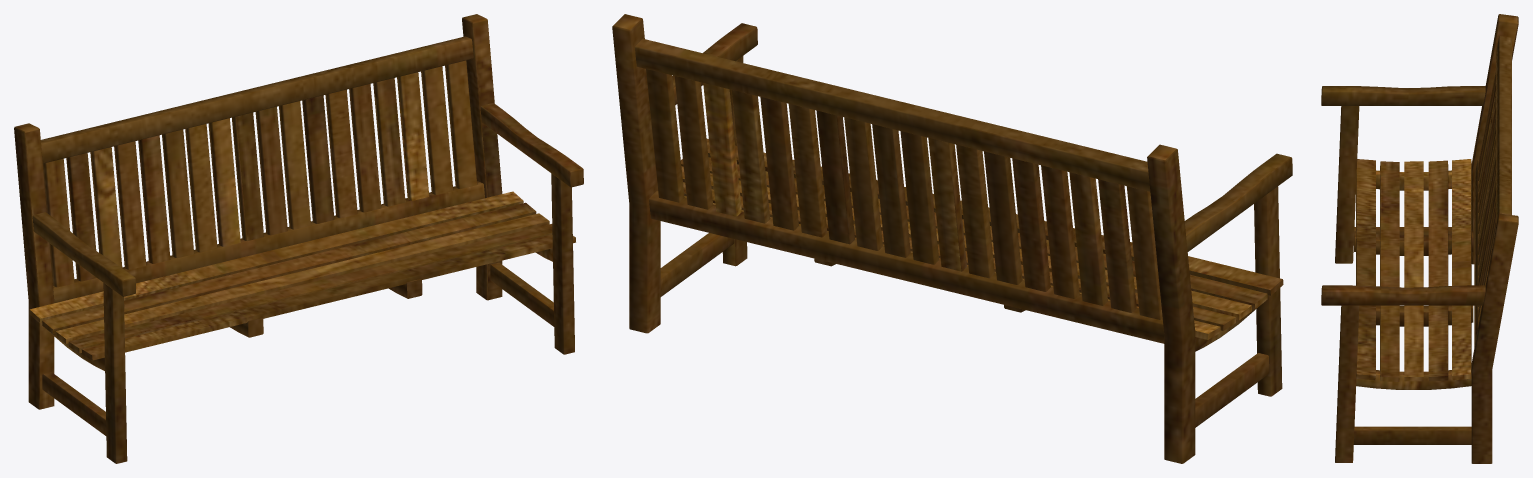
The picture shows the model from 3 angles, left to right: view 1: azimuth 30°, elevation 25°; view 2: azimuth 150°, elevation 25°; view 3: azimuth 270°, elevation 25°; orthographic projection. The views are drawn at different scales.
Visible parts, largest first — view 1: Cube; view 2: Cube; view 3: Cube.
Part boxes in pixels (<box>): Cube: <box>14,14,583,463</box>; Cube: <box>612,14,1292,463</box>; Cube: <box>1321,14,1518,463</box>.
Size of the model in its own units: 698 by 368 by 271.
1 material, 1 textured.
